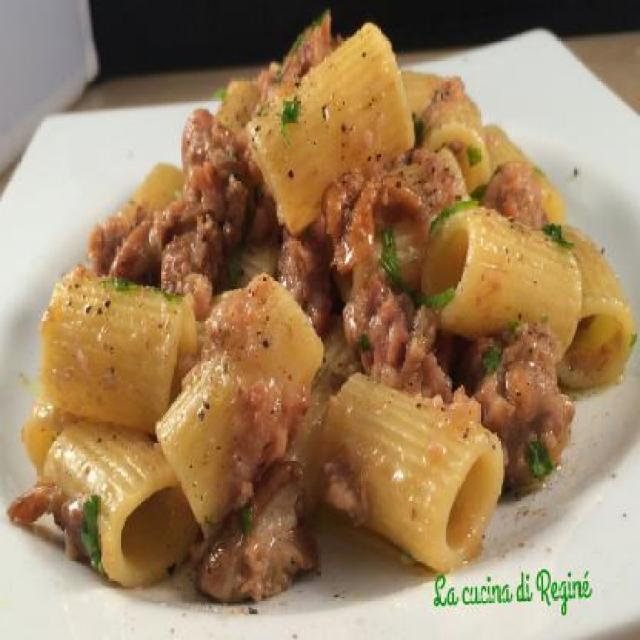Pasta al ragu: (65, 14, 624, 514)
